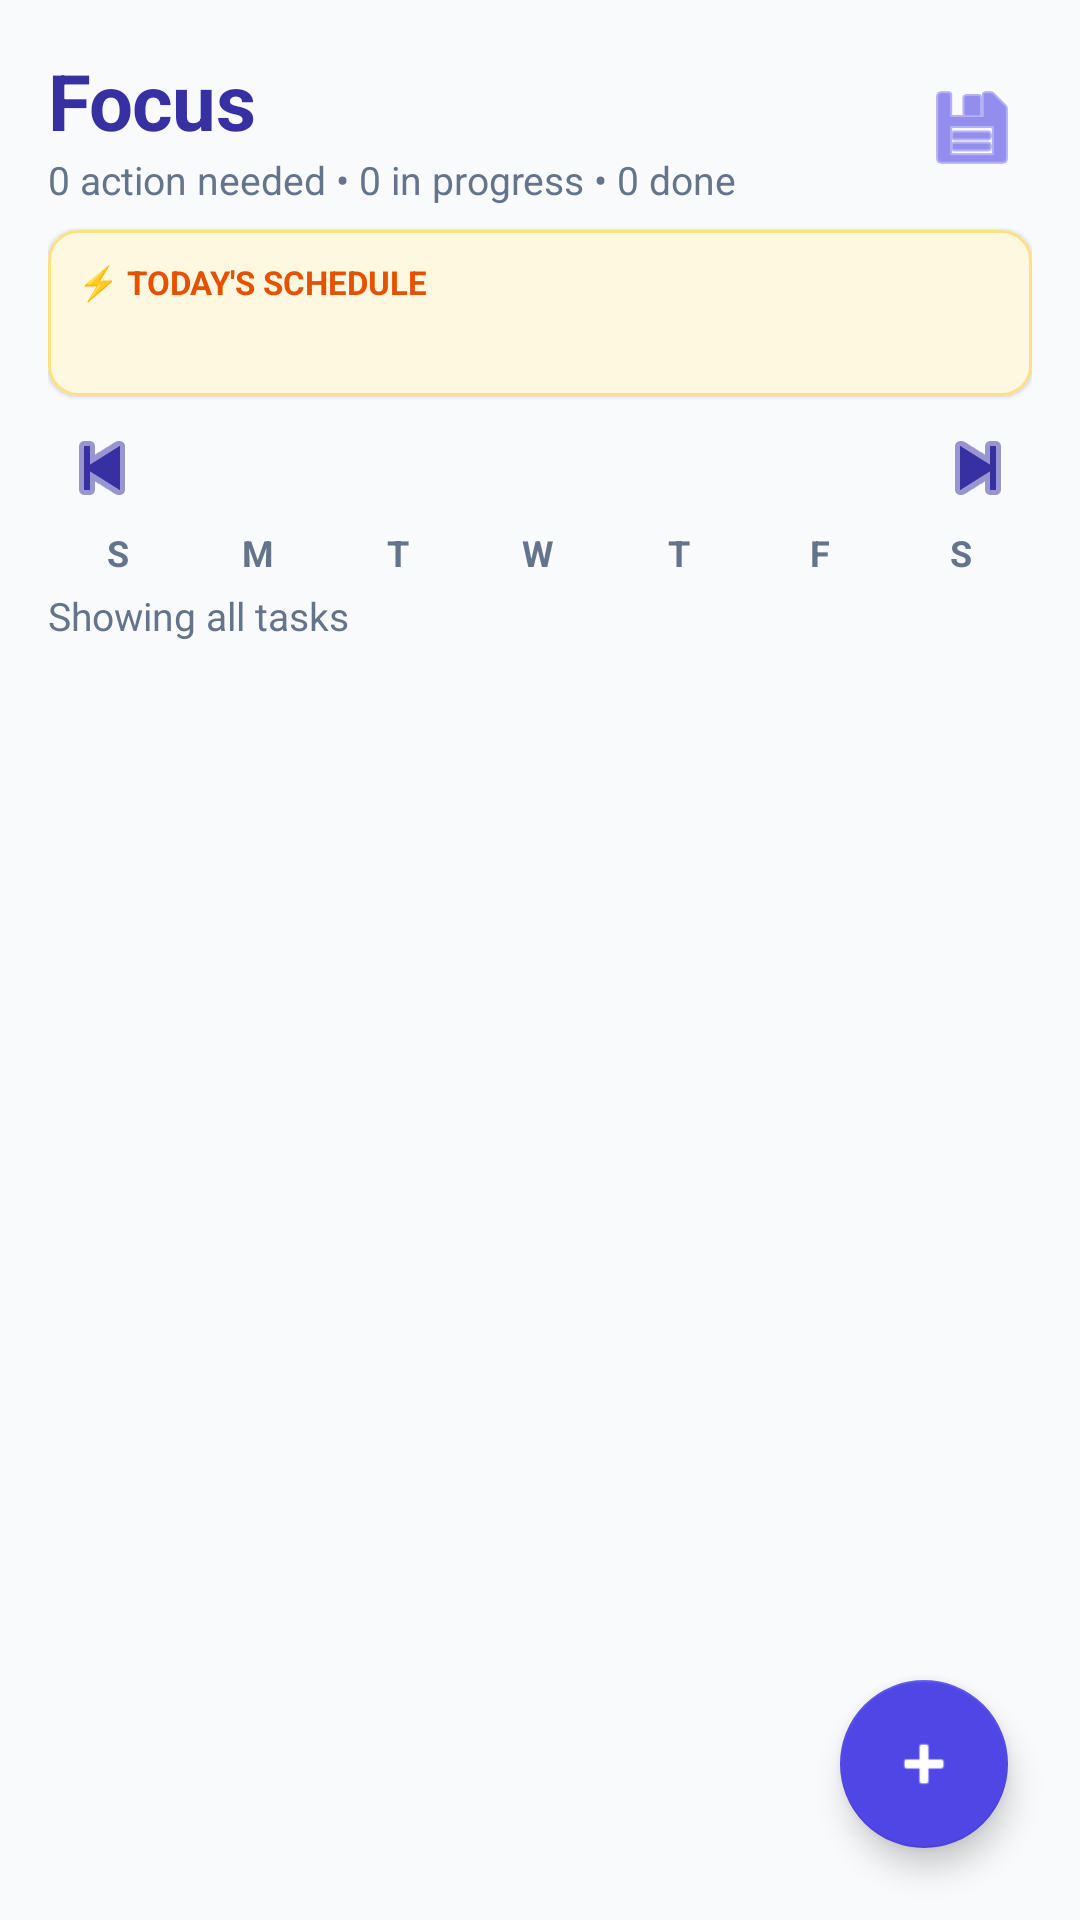

Screen size 1080*1920. Icon name, then its center in pixels as (x,y):
Add Reminder: (924,1764)
Export to CSV: (972,127)
Next Month: (978,468)
Previous Month: (102,468)
